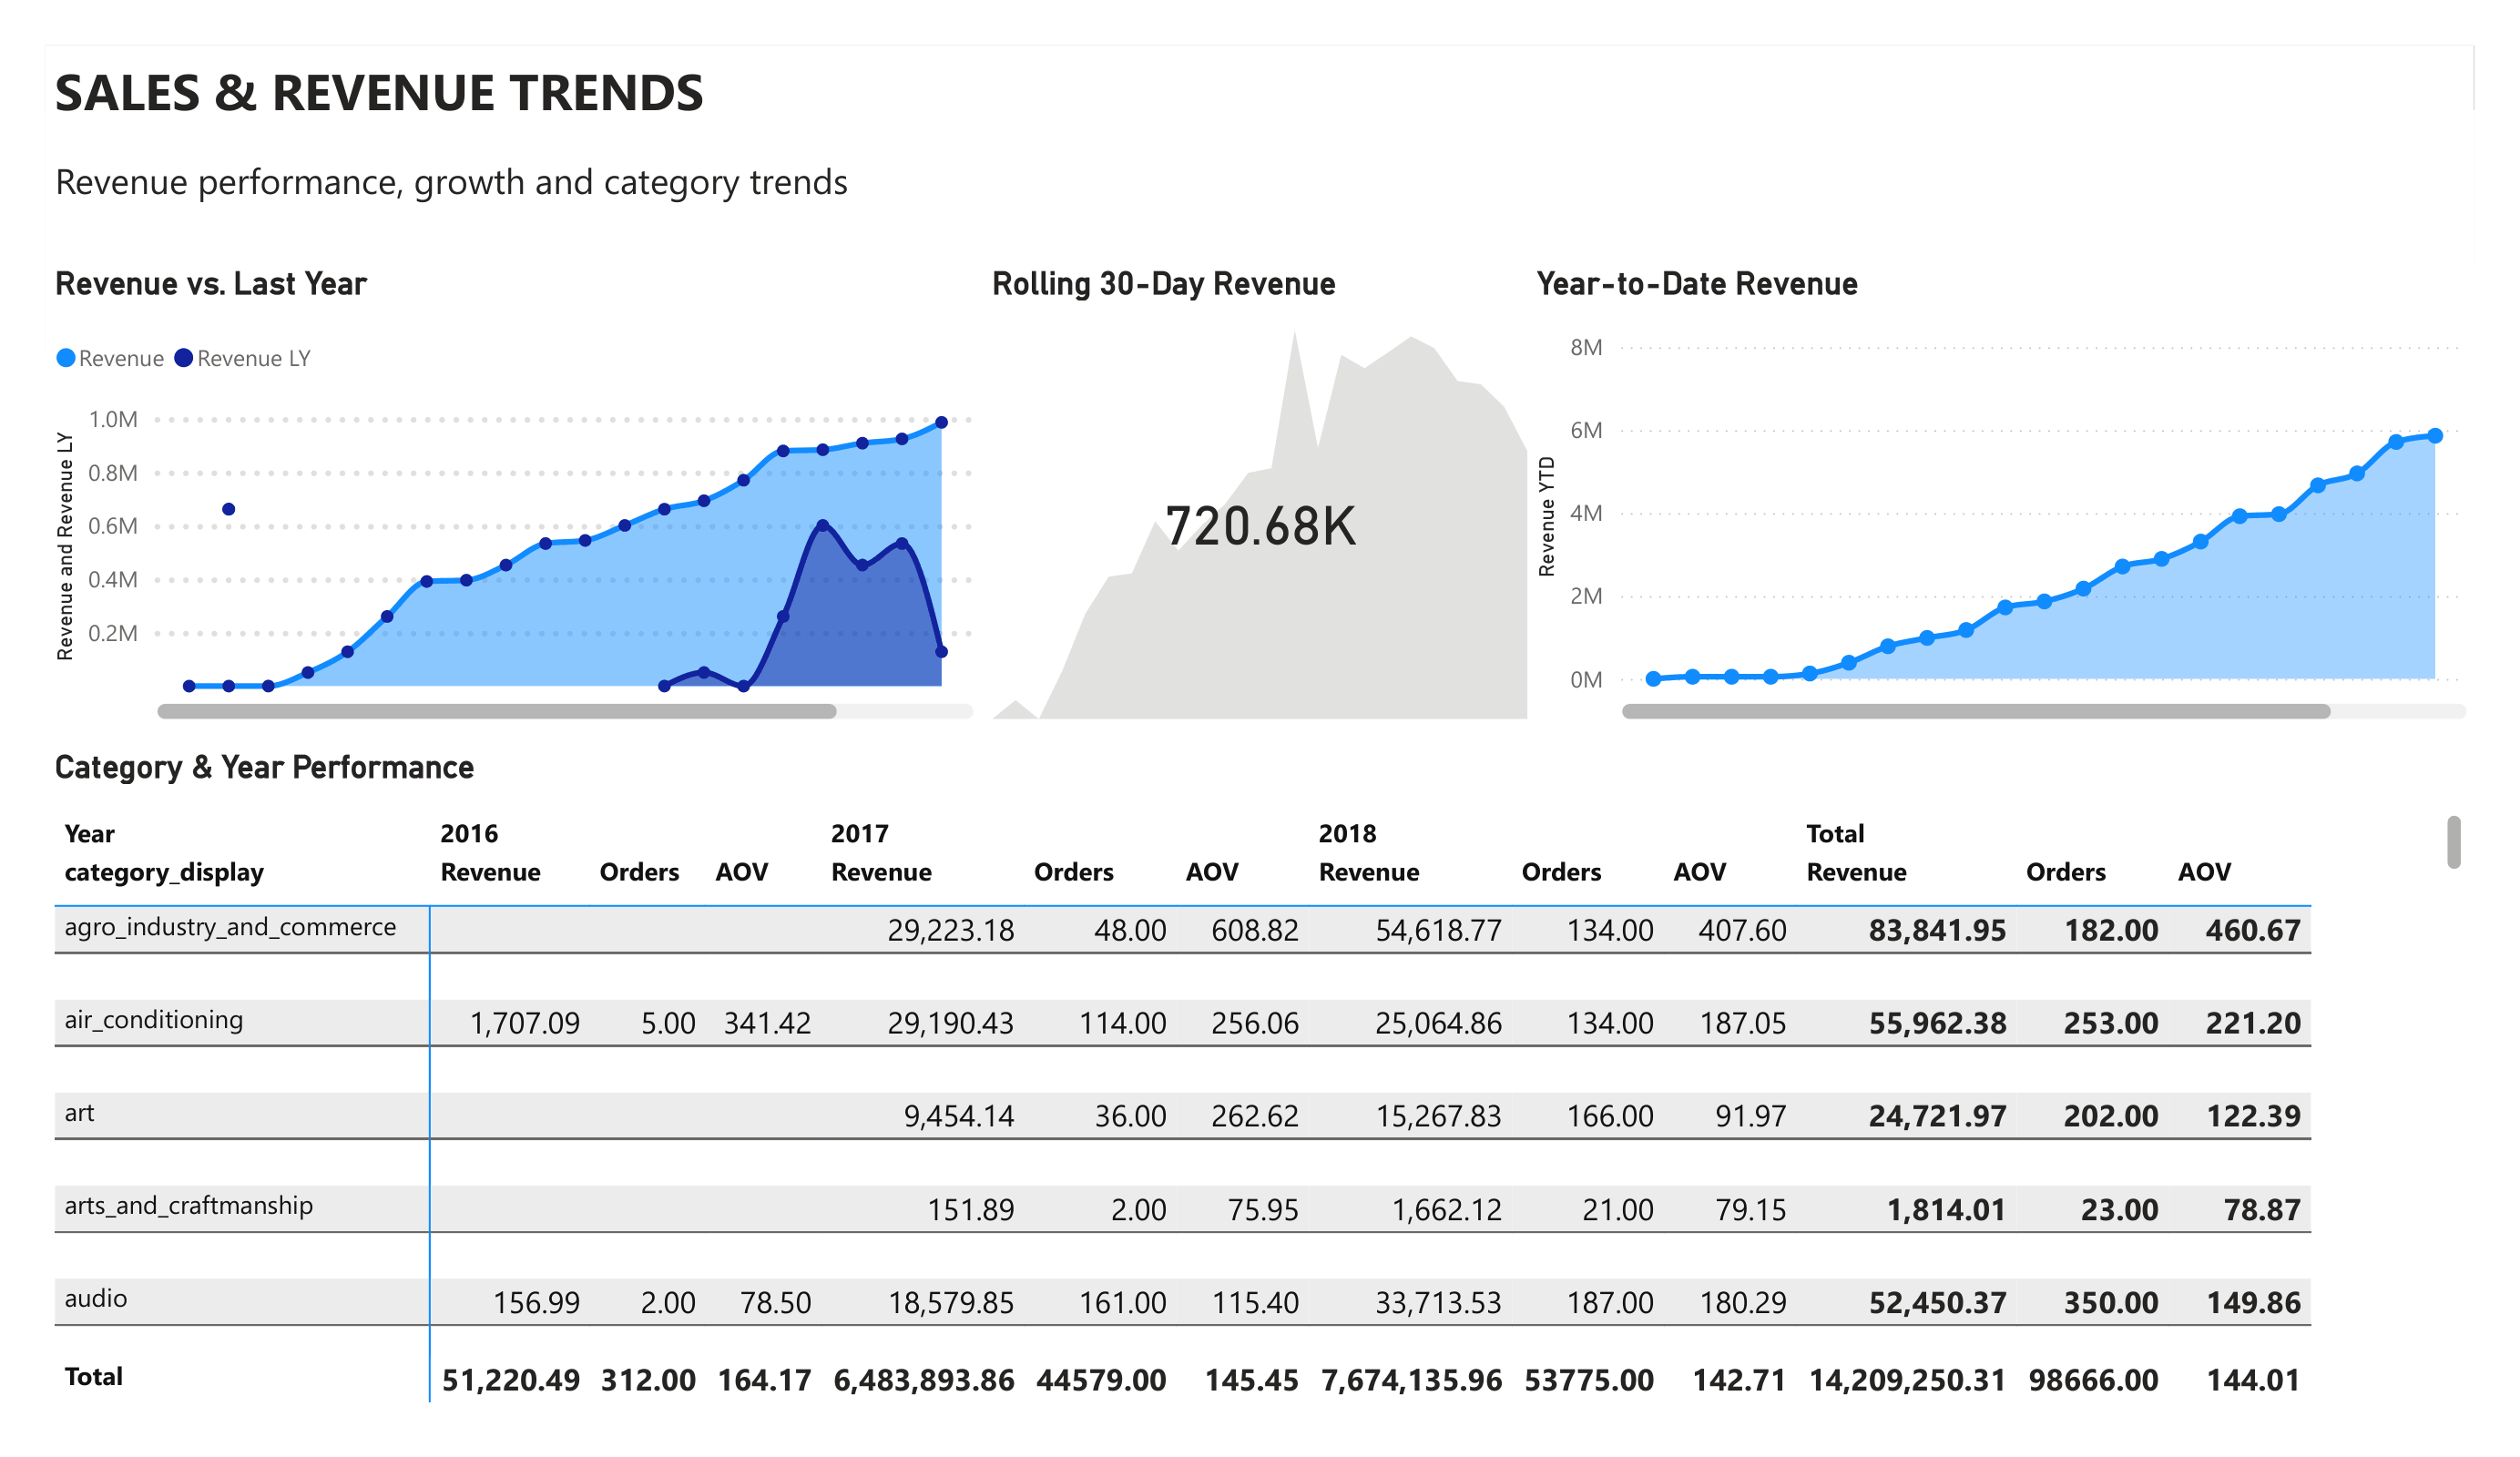

Layout of this report page (visuals, bound fields, positions):
{"tool":"powerbi","page":{"name":"Sales Trends","canvas":[1280,720],"ordinal":1},"visuals":[{"type":"lineChart","title":"    Revenue vs. Last Year","fields":{"Category":["DimDate.Year-Month"],"Y":["public bi_fact_sales.Revenue","public bi_fact_sales.Revenue LY"]},"box":[0,115,493.8,245],"z":0},{"type":"kpi","title":"    Rolling 30-Day Revenue","fields":{"Indicator":["public bi_fact_sales.Rolling 30D Revenue"],"TrendLine":["DimDate.Year-Month"]},"box":[493.8,115,292.5,245],"z":1000},{"type":"areaChart","title":"    Year-to-Date Revenue","fields":{"Category":["DimDate.Year-Month"],"Y":["public bi_fact_sales.Revenue YTD"]},"box":[781.2,115,500,245],"z":2000},{"type":"pivotTable","title":"Category & Year Performance","fields":{"Columns":["DimDate.Year"],"Rows":["public bi_fact_sales.category_display"],"Values":["public bi_fact_sales.Revenue","public bi_fact_sales.Orders","public bi_fact_sales.AOV"]},"box":[0,370,1278.8,350],"z":3000},{"type":"textbox","box":[0,0,1278.8,101.2],"z":4000}]}

Visuals, with their boxes on the page's 1280x720 design canvas (x1, y1, x2, y2). These are canvas units, not pixel positions in the 2520x1457 screenshot, which may show the page scaled, cropped or inside an application window:
"    Revenue vs. Last Year" lineChart: l=0, t=115, r=494, b=360
"    Rolling 30-Day Revenue" kpi: l=494, t=115, r=786, b=360
"    Year-to-Date Revenue" areaChart: l=781, t=115, r=1281, b=360
"Category & Year Performance" pivotTable: l=0, t=370, r=1279, b=720
textbox: l=0, t=0, r=1279, b=101
